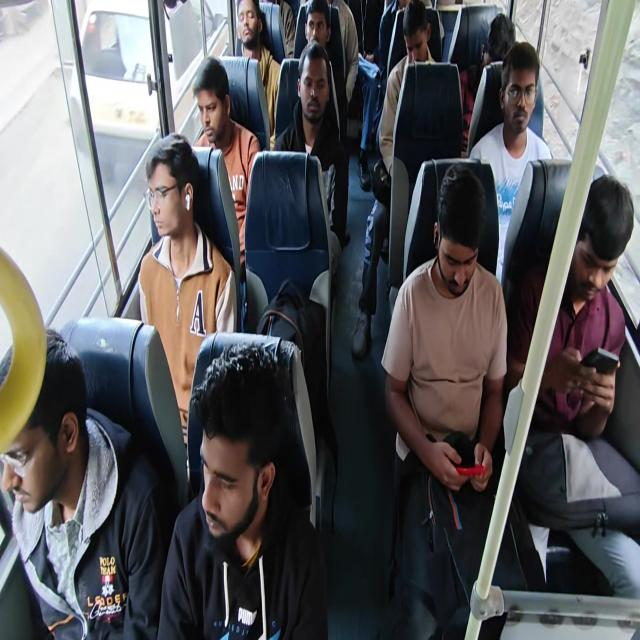person: (381, 162, 508, 638), (505, 173, 639, 599), (0, 327, 164, 638), (157, 340, 328, 638), (138, 132, 237, 459), (351, 1, 438, 358), (468, 41, 553, 285), (273, 41, 350, 266), (191, 55, 261, 281), (377, 0, 438, 179), (293, 0, 358, 145), (463, 13, 516, 150), (234, 0, 282, 139), (374, 0, 411, 146), (479, 13, 516, 70)
